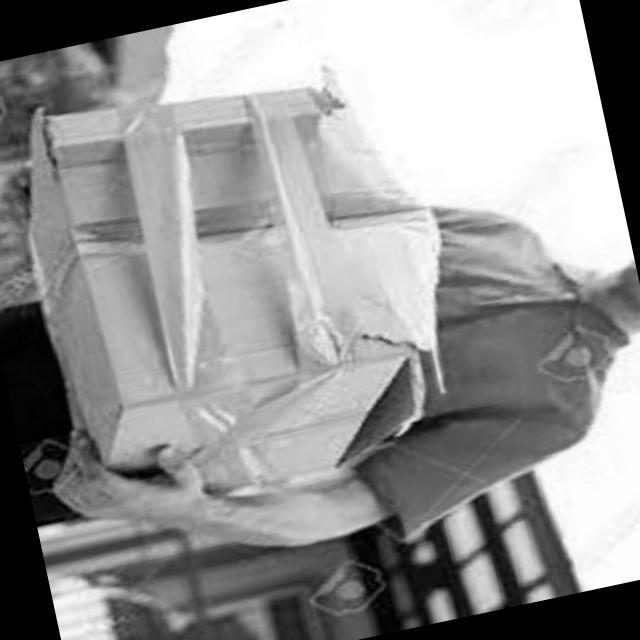box: (0, 33, 485, 524)
